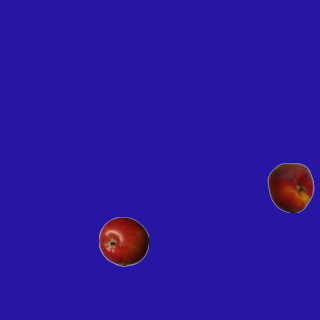Apple Braeburn: (98, 216, 148, 266)
Nectarine Flat: (265, 162, 315, 212)
